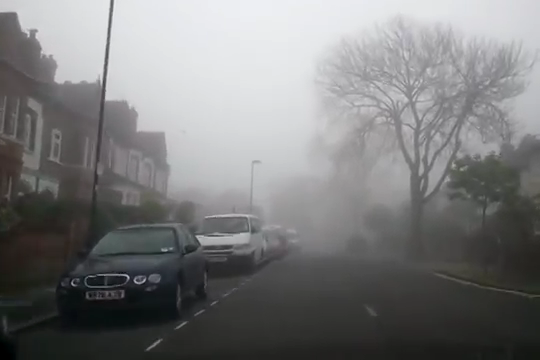car: (52, 222, 208, 320), (189, 213, 266, 273), (245, 224, 280, 261), (279, 227, 302, 248)
